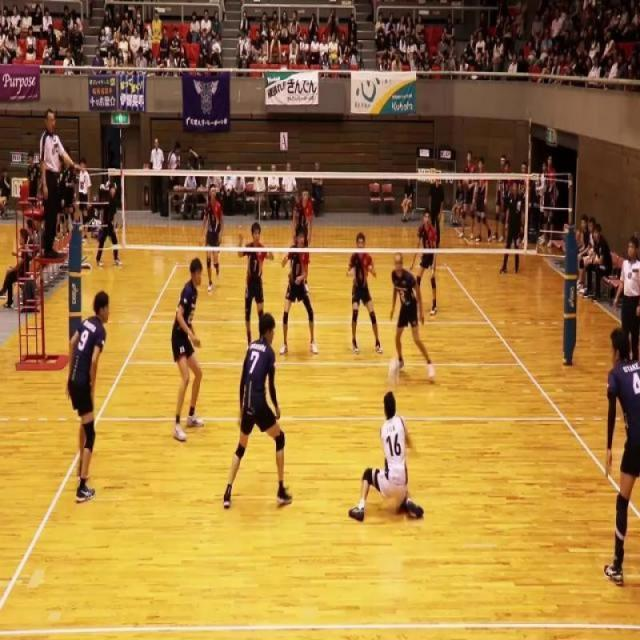volleyball: (387, 354, 402, 389)
